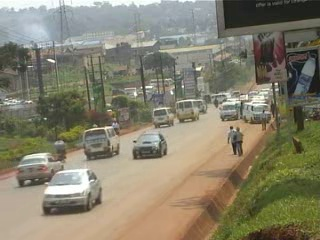Car: (40, 167, 106, 218), (16, 151, 70, 188), (130, 126, 170, 163)
Motorcycle: (53, 145, 69, 163), (212, 97, 219, 108)
